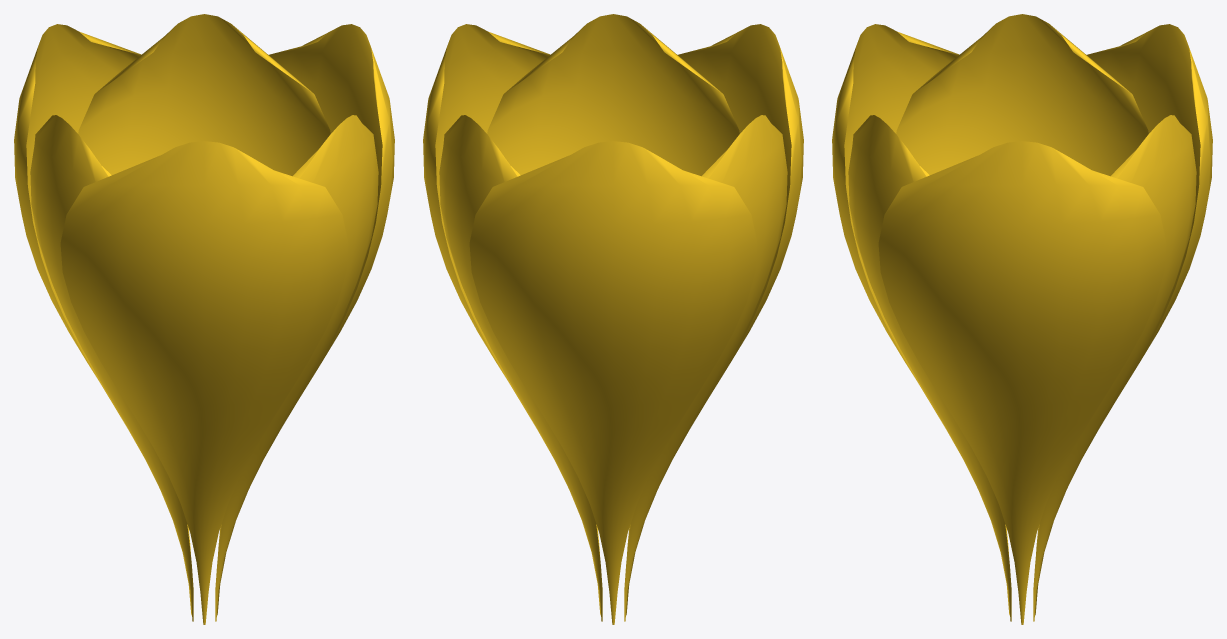
Rendered from garden-tulip-bloom-head-0.glb.
The picture shows the model from 3 angles, left to right: view 1: azimuth 30°, elevation 25°; view 2: azimuth 150°, elevation 25°; view 3: azimuth 270°, elevation 25°; orthographic projection.
Visible parts, largest first — view 1: tulip-bloom-head-0; view 2: tulip-bloom-head-0; view 3: tulip-bloom-head-0.
Part boxes in pixels (left/top/right/bottom): tulip-bloom-head-0: left=14, top=14, right=394, bottom=624; tulip-bloom-head-0: left=423, top=14, right=803, bottom=624; tulip-bloom-head-0: left=832, top=14, right=1212, bottom=624.
Size of the model in its own units: 0.075 by 0.122 by 0.0761.
